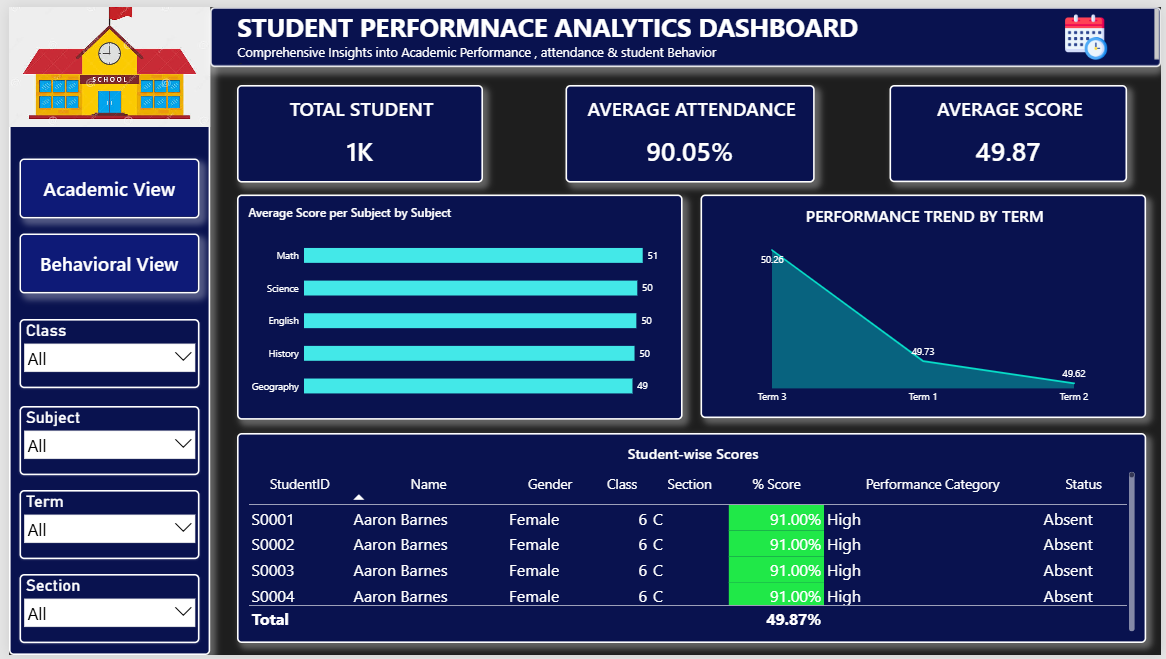

The page's visual inventory and layout, read from the dashboard file:
{"tool":"powerbi","page":{"name":"STUDENT PERFORMANCE","canvas":[1920,1080],"ordinal":0},"visuals":[{"type":"card","title":"TOTAL STUDENT","fields":{"Values":["Count(Scores.StudentID)"]},"box":[380,130,410,162.5],"z":0},{"type":"textbox","box":[0,0,335,1080],"z":1000},{"type":"slicer","fields":{"Values":["Students.Class"]},"box":[17.5,520.6,300,115],"z":2000},{"type":"slicer","fields":{"Values":["Scores.Subject"]},"box":[17.5,665.6,300,115],"z":3000},{"type":"slicer","fields":{"Values":["Scores.Term"]},"box":[17.5,805.6,300,115],"z":4000},{"type":"slicer","fields":{"Values":["Students.Section"]},"box":[17.5,945.6,300,115],"z":5000},{"type":"image","box":[0,0,335,200],"z":6000},{"type":"card","title":"AVERAGE ATTENDANCE","fields":{"Values":["MEASURE.Attendance %"]},"box":[927.5,130,415,162.5],"z":7000},{"type":"card","title":"AVERAGE SCORE","fields":{"Values":["MEASURE.Average Score per Subject"]},"box":[1467.5,130,396,162],"z":8000},{"type":"clusteredBarChart","fields":{"Category":["Scores.Subject"],"Y":["MEASURE.Average Score per Subject"]},"box":[380,312.5,742.5,375],"z":9000},{"type":"lineChart","title":"PERFORMANCE TREND BY TERM","fields":{"Category":["Scores.Term"],"Y":["MEASURE.Average Score per Subject"]},"box":[1152.5,312.5,742.5,372.5],"z":11000},{"type":"tableEx","title":"Student-wise Scores","fields":{"Values":["Attendance.StudentID","Students.Name","Students.Gender","Students.Class","Students.Section","MEASURE.% Score","Scores.Performance Category","Attendance.Status"]},"box":[380,710,1515,350],"z":12000},{"type":"textbox","box":[335,0,1585,100],"z":13000},{"type":"actionButton","title":"Academic View","box":[17.5,252.5,300,100],"z":15000},{"type":"actionButton","title":"Academic View","box":[17.5,377.5,300,100],"z":16000},{"type":"image","box":[1727.5,12.5,135,75],"z":16001}]}

Visuals, with their boxes in screenshot pixels (x1, y1, x2, y2), scaled from the page's 1920x1080 canvas onto the 1166x659 screenshot:
"TOTAL STUDENT" card: l=231, t=79, r=480, b=178
textbox: l=0, t=0, r=203, b=658
slicer - Students.Class: l=11, t=318, r=193, b=388
slicer - Scores.Subject: l=11, t=406, r=193, b=476
slicer - Scores.Term: l=11, t=492, r=193, b=562
slicer - Students.Section: l=11, t=577, r=193, b=647
image: l=0, t=0, r=203, b=122
"AVERAGE ATTENDANCE" card: l=563, t=79, r=815, b=178
"AVERAGE SCORE" card: l=891, t=79, r=1132, b=178
clusteredBarChart - Scores.Subject x MEASURE.Average Score per Subject: l=231, t=191, r=682, b=420
"PERFORMANCE TREND BY TERM" lineChart: l=700, t=191, r=1151, b=418
"Student-wise Scores" tableEx: l=231, t=433, r=1151, b=647
textbox: l=203, t=0, r=1165, b=61
"Academic View" actionButton: l=11, t=154, r=193, b=215
"Academic View" actionButton: l=11, t=230, r=193, b=291
image: l=1049, t=8, r=1131, b=53
